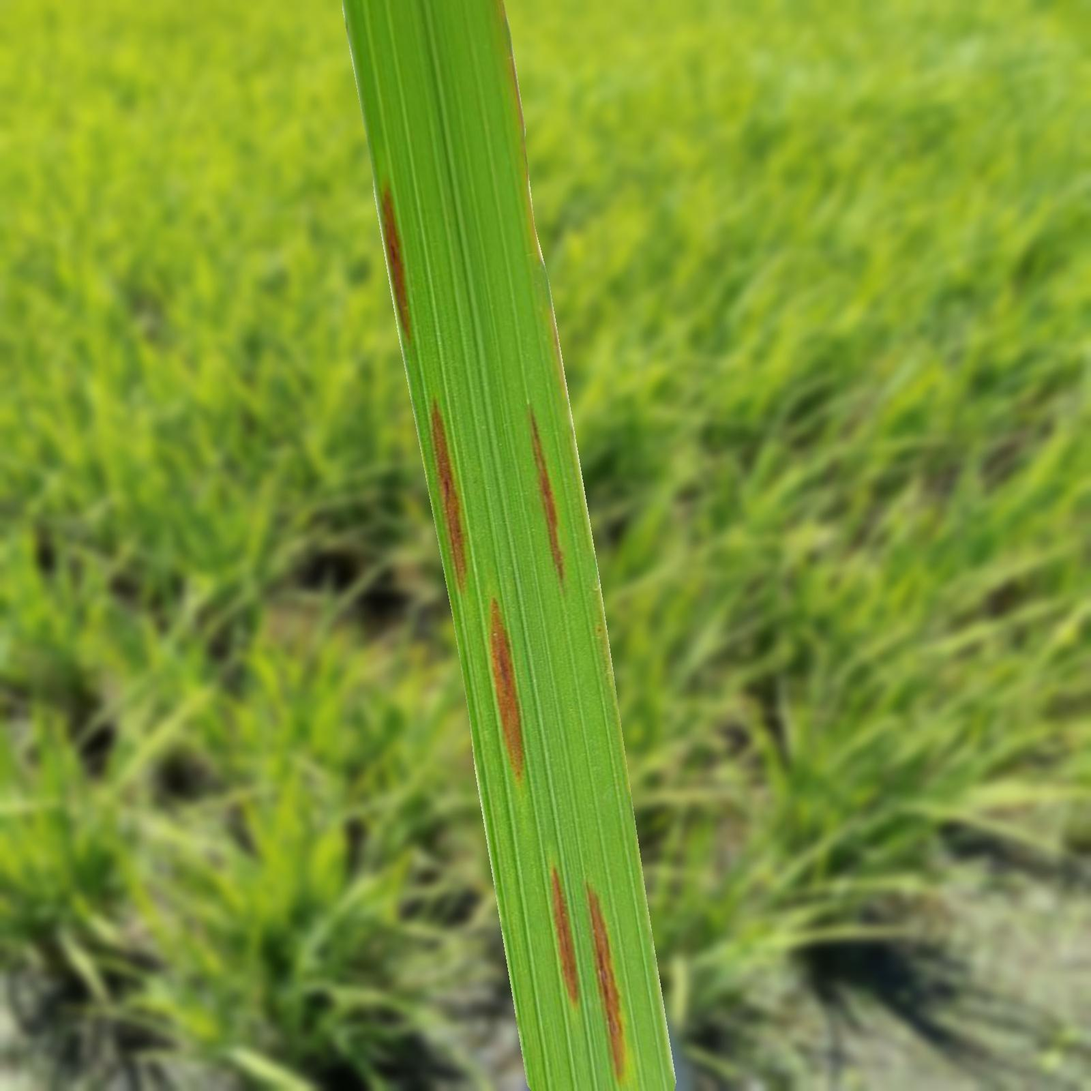LEAF: (342, 0, 676, 1090)
NBS: (588, 886, 625, 1081), (432, 400, 466, 589), (491, 599, 524, 780), (531, 410, 563, 582), (380, 186, 410, 339), (552, 869, 578, 1004)
